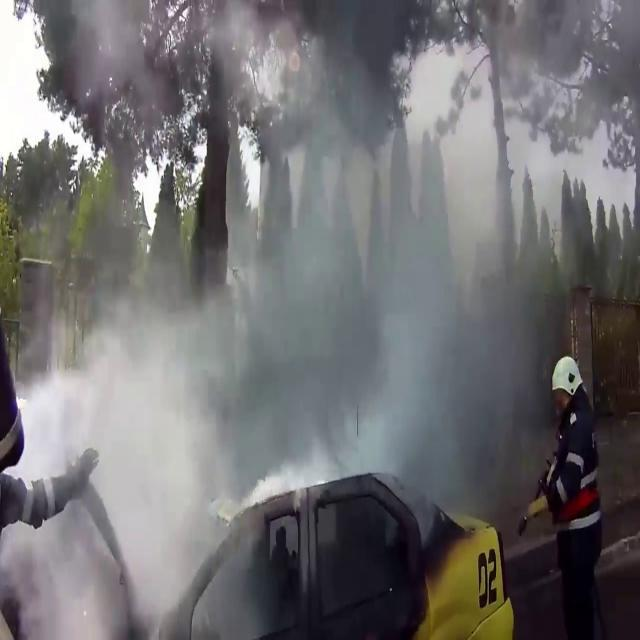Smoke: (0, 0, 624, 545)
